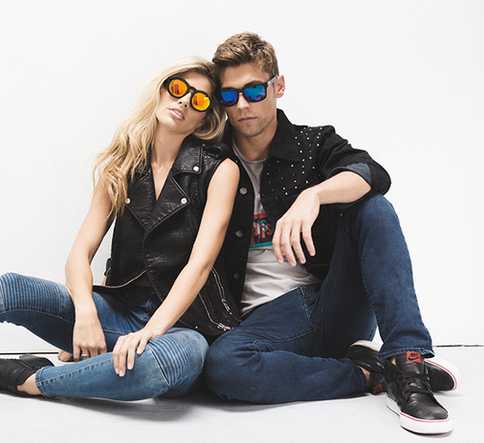jeans: (213, 223, 436, 400), (6, 274, 205, 397)
sunglasses: (163, 78, 211, 114), (222, 83, 268, 104)
